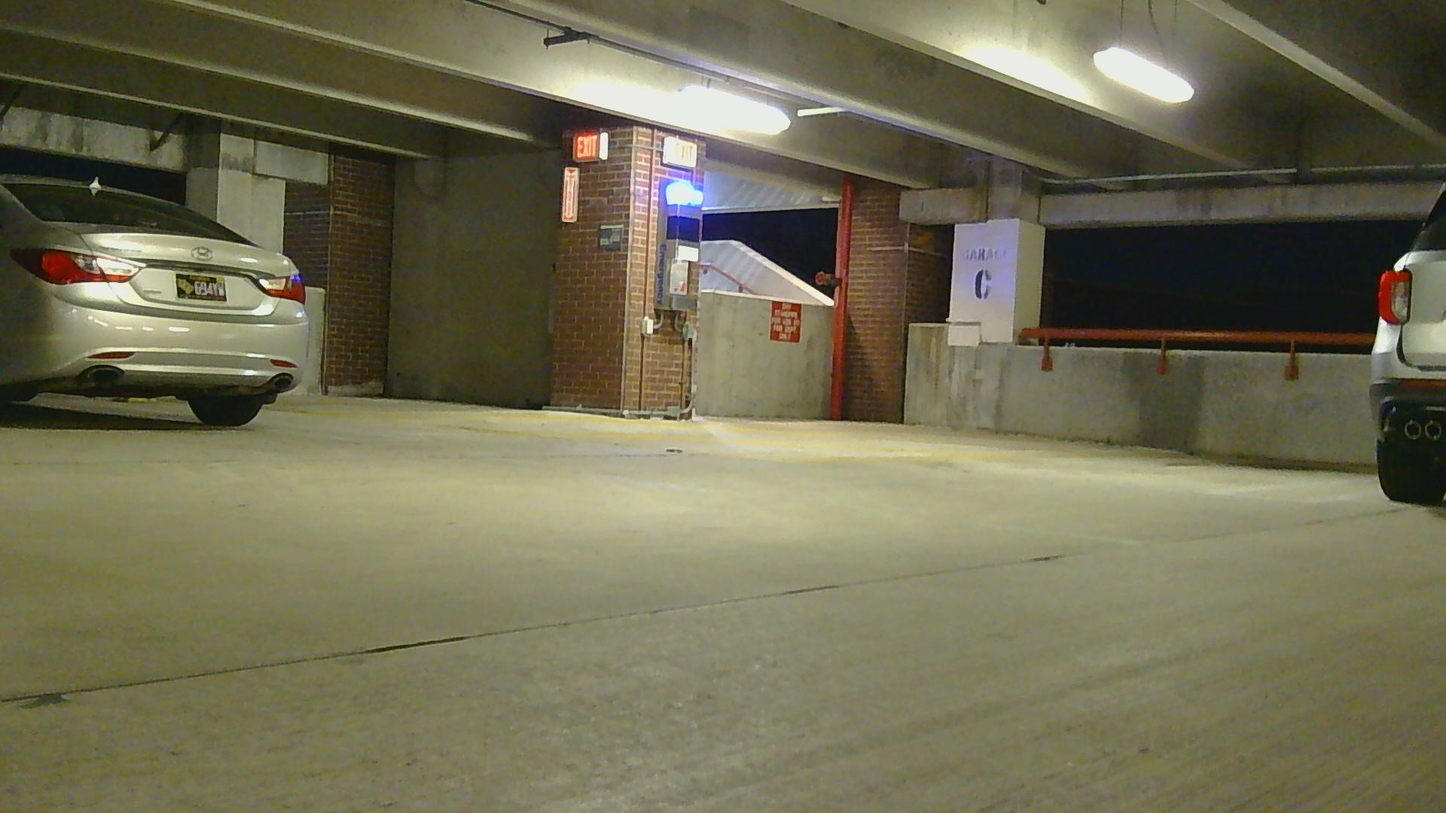empty_spot: (820, 372, 1382, 498)
occupied_spot: (4, 173, 317, 446), (1361, 169, 1445, 509)
